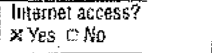NO: (64, 27, 80, 42)
YES: (9, 27, 24, 42)
